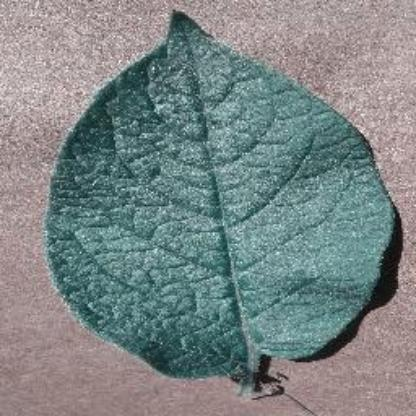Healthy-plant: (42, 10, 398, 400)
